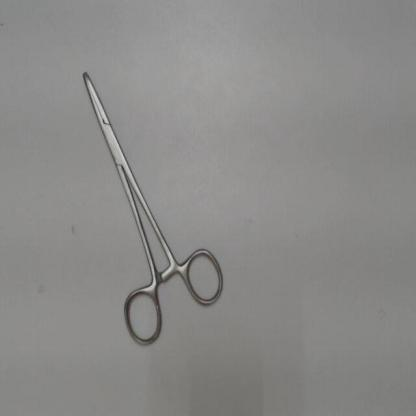Mayo Needle Holder: (74, 54, 233, 354)
